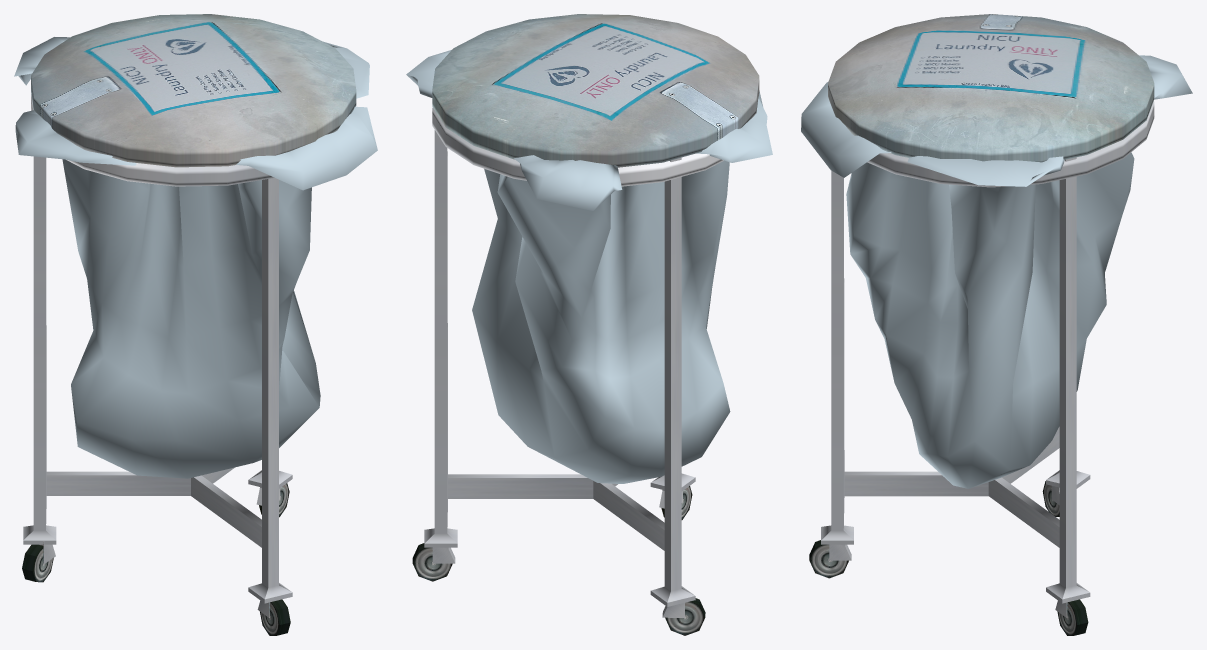
The model's file is laundry_basket.fbx.
3 views of the same model, side by side, from view 1: azimuth 30°, elevation 25°; view 2: azimuth 150°, elevation 25°; view 3: azimuth 270°, elevation 25° (orthographic).
Visible parts, largest first — view 1: bag, lid, leg, leg1, wheel (×2), leg2; view 2: bag, lid, leg1, leg2, wheel (×2); view 3: bag, lid, leg2, leg, wheel (×2), leg1.
Part boxes in pixels (x1,y1,x2,y2): bag: (14,37,377,478); lid: (31,14,356,186); leg: (191,178,292,603); leg1: (23,156,190,544); wheel (×2): (22,544,290,635); leg2: (202,467,292,488); bag: (406,50,772,483); lid: (432,14,759,186); leg1: (593,157,695,606); leg2: (424,130,593,547); wheel (×2): (412,543,705,635); bag: (801,55,1192,488); lid: (828,14,1154,187); leg2: (988,157,1090,603); leg: (821,170,988,544); wheel (×2): (809,540,1088,635); leg1: (1002,426,1090,488).
Bounding box in the file's own units: 2.33 × 3.31 × 2.28.
3 materials, 2 textured.
